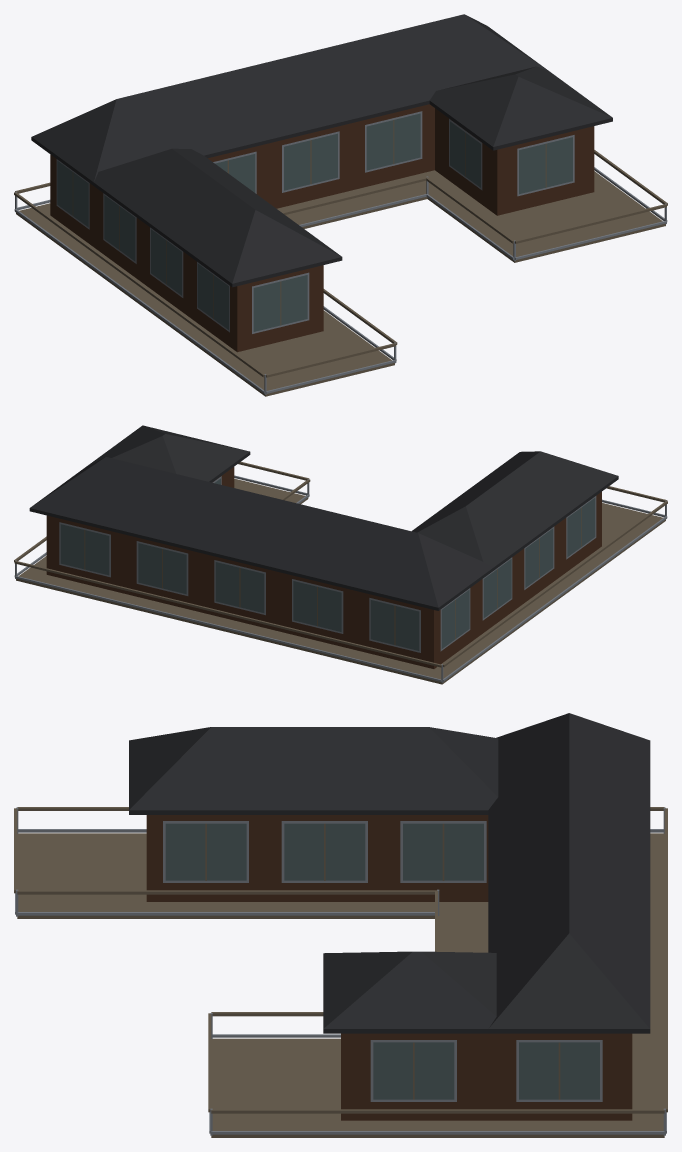
Rendered from top-prebuilt.fbx.
The picture shows the model from 3 angles, top to bottom: view 1: azimuth 30°, elevation 25°; view 2: azimuth 150°, elevation 25°; view 3: azimuth 270°, elevation 25°; orthographic projection. The views are drawn at different scales.
Parts seen in each view (by area): view 1: a2016/0/top-prebuilt; view 2: a2016/0/top-prebuilt; view 3: a2016/0/top-prebuilt.
Part boxes in pixels (box(x1,y1,x2,y2)): a2016/0/top-prebuilt: box(14, 14, 667, 396); a2016/0/top-prebuilt: box(14, 425, 667, 684); a2016/0/top-prebuilt: box(14, 713, 667, 1137).
Size of the model in its own units: 22.2 by 5.6 by 20.2.
